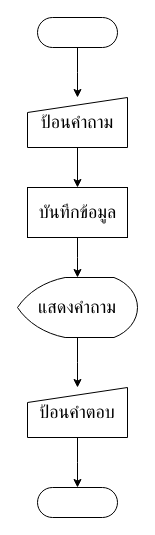
Image size: 155x535. Some labels were removed from this diagram. Each missing label, with the box of its shape:
สิ้นสุด: (36, 486, 118, 518)
เริ่มต้น: (36, 16, 118, 48)
